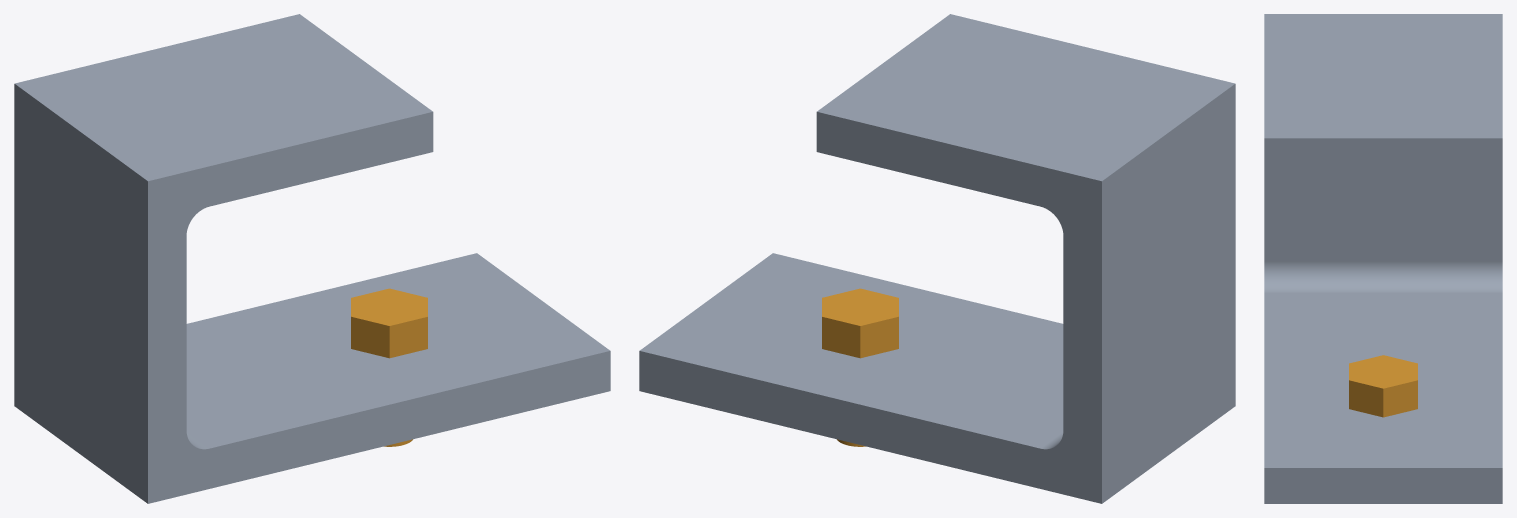
File: bracket.glb
The picture shows the model from 3 angles, left to right: view 1: azimuth 30°, elevation 25°; view 2: azimuth 150°, elevation 25°; view 3: azimuth 270°, elevation 25°; orthographic projection. The views are drawn at different scales.
Parts seen in each view (by area): view 1: body, screw; view 2: body, screw; view 3: body, screw.
Part boxes in pixels (x1,y1,x2,y2): body: (14, 14, 610, 503); screw: (351, 288, 427, 446); body: (639, 14, 1235, 503); screw: (822, 288, 898, 446); body: (1264, 14, 1502, 503); screw: (1349, 355, 1417, 417).
Size of the model in its own units: 60 by 47 by 30.
